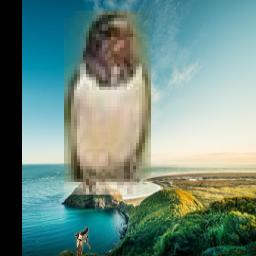Swallow: (65, 11, 152, 195), (75, 226, 94, 256)
